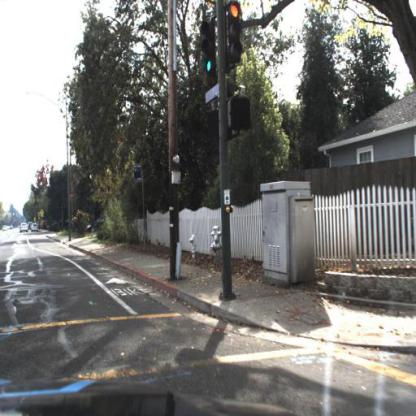car: (87, 216, 117, 234), (21, 224, 30, 234), (32, 225, 39, 234), (4, 226, 9, 233)
